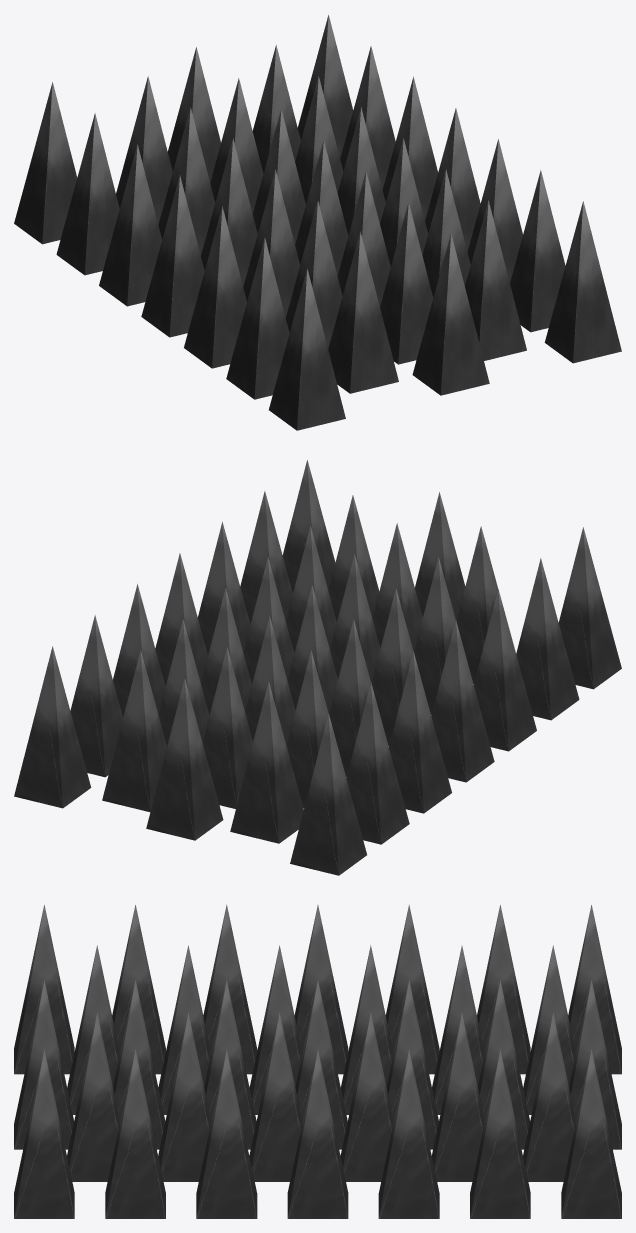
The model's file is kolce_01.fbx.
3 renders of one model, top to bottom at view 1: azimuth 30°, elevation 25°; view 2: azimuth 150°, elevation 25°; view 3: azimuth 270°, elevation 25°, orthographic. The views are drawn at different scales.
Parts seen in each view (by area): view 1: Cube; view 2: Cube; view 3: Cube.
Part boxes in pixels (x1,y1,x2,y2): Cube: (14,15,621,430); Cube: (14,460,621,875); Cube: (14,904,621,1218).
Bounding box in the file's own units: 198 × 85.45 × 299.
